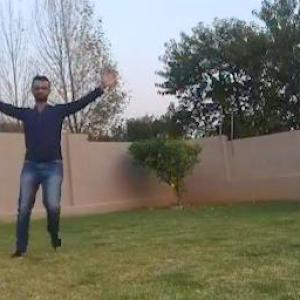takeoff: (1, 72, 130, 249)
